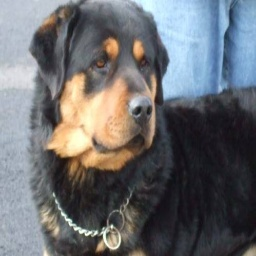dog: (28, 2, 256, 256)
